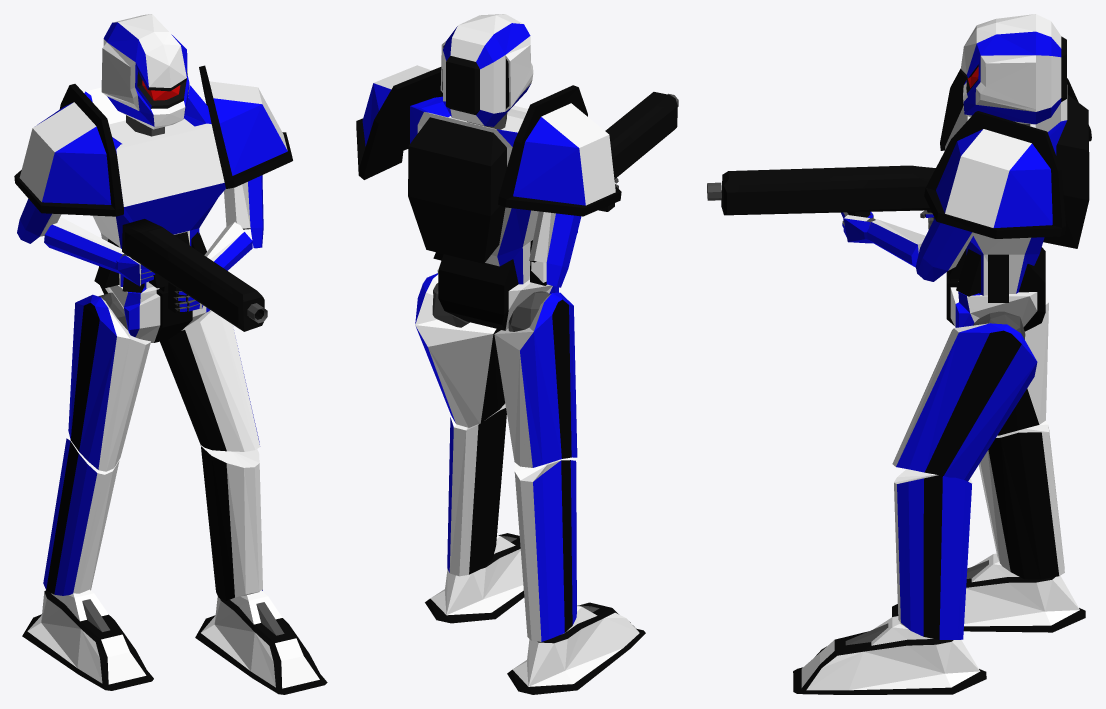
The model's file is robots_000019.obj.
3 renders of one model, left to right at view 1: azimuth 30°, elevation 25°; view 2: azimuth 150°, elevation 25°; view 3: azimuth 270°, elevation 25°, orthographic. The views are drawn at different scales.
Visible parts, largest first — view 1: Chest_plate_Cube.004, R_Thigh_Cube.005, Cube.002_Cube.059, R_Thigh.002_Cube.027, Head_base_Cube.022, R_Shin.002_Cube.029, R_Foot.002_Cube.035, R_Foot_Cube, R_Shin_Cube.007, Cube_Cube.001, Cube_Cube.021, Pelvis_Cube.006 (+5 smaller); view 2: Chest_plate_Cube.004, Cube.002_Cube.059, R_Thigh_Cube.005, R_Shin_Cube.007, Head_base_Cube.022, R_Shin.002_Cube.029, R_Thigh.002_Cube.027, R_Foot_Cube, Cube_Cube.021, Pelvis_Cube.006, R_Foot.002_Cube.035, Cube_Cube.001 (+3 smaller); view 3: Cube_Cube.021, R_Thigh.002_Cube.027, R_Shin.002_Cube.029, R_Foot.002_Cube.035, R_Shin_Cube.007, Head_base_Cube.022, Cube_Cube.001, Chest_plate_Cube.004, R_Foot_Cube, Pelvis_Cube.006, R_Thigh_Cube.005, L_Arm_Cube.014 (+4 smaller).
Boxes of the visible parts, x1,y1,x2,y2 form: Chest_plate_Cube.004: (84, 85, 225, 292); R_Thigh_Cube.005: (68, 294, 150, 471); Cube.002_Cube.059: (14, 84, 123, 216); R_Thigh.002_Cube.027: (160, 310, 260, 451); Head_base_Cube.022: (101, 14, 189, 129); R_Shin.002_Cube.029: (200, 445, 262, 600); R_Foot.002_Cube.035: (195, 591, 327, 694); R_Foot_Cube: (22, 589, 153, 690); R_Shin_Cube.007: (43, 438, 119, 595); Cube_Cube.001: (122, 219, 267, 331); Cube_Cube.021: (199, 65, 292, 188); Pelvis_Cube.006: (99, 266, 209, 342); Chest_plate_Cube.004: (408, 96, 546, 285); Cube.002_Cube.059: (498, 85, 621, 216); R_Thigh_Cube.005: (494, 292, 577, 467); R_Shin_Cube.007: (514, 460, 576, 641); Head_base_Cube.022: (440, 14, 533, 126); R_Shin.002_Cube.029: (447, 403, 506, 576); R_Thigh.002_Cube.027: (415, 273, 504, 427); R_Foot_Cube: (507, 602, 645, 694); Cube_Cube.021: (356, 65, 442, 179); Pelvis_Cube.006: (437, 254, 558, 330); R_Foot.002_Cube.035: (425, 533, 524, 623); Cube_Cube.001: (598, 92, 678, 211); Cube_Cube.021: (924, 111, 1065, 238); R_Thigh.002_Cube.027: (892, 323, 1037, 481); R_Shin.002_Cube.029: (894, 469, 971, 639); R_Foot.002_Cube.035: (793, 616, 986, 694); R_Shin_Cube.007: (979, 421, 1064, 579); Head_base_Cube.022: (960, 14, 1066, 124); Cube_Cube.001: (707, 165, 935, 219); Chest_plate_Cube.004: (945, 85, 1089, 302); R_Foot_Cube: (892, 553, 1085, 632); Pelvis_Cube.006: (946, 247, 1045, 331); R_Thigh_Cube.005: (997, 293, 1048, 435); L_Arm_Cube.014: (915, 218, 974, 281).
Size of the model in its own units: 1.32 by 3.04 by 1.68.
